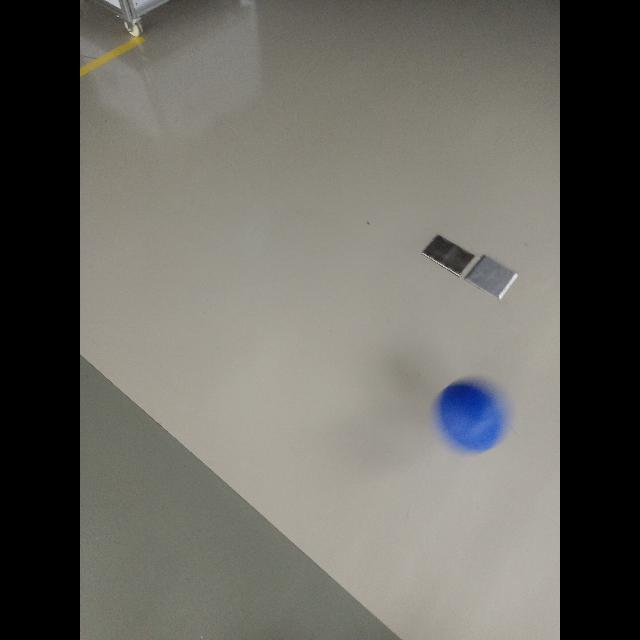B: (440, 382, 508, 454)
